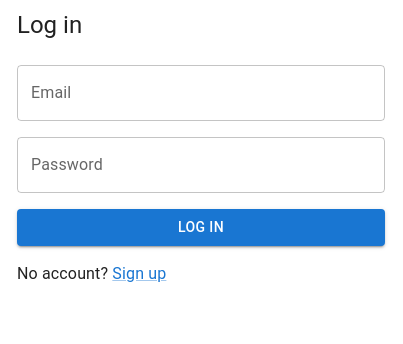
Test: LoginPage validation › shows validation errors and does not submit when fields are empty
This screenshot has width=403, height=344.
Click the button "Log in" at x=201, y=227, box [17,209,385,246]
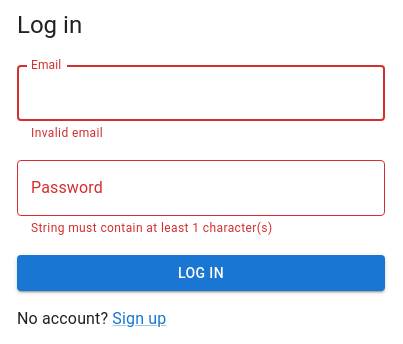
Result: the text "Invalid email" is shown at [31,126,103,140]
